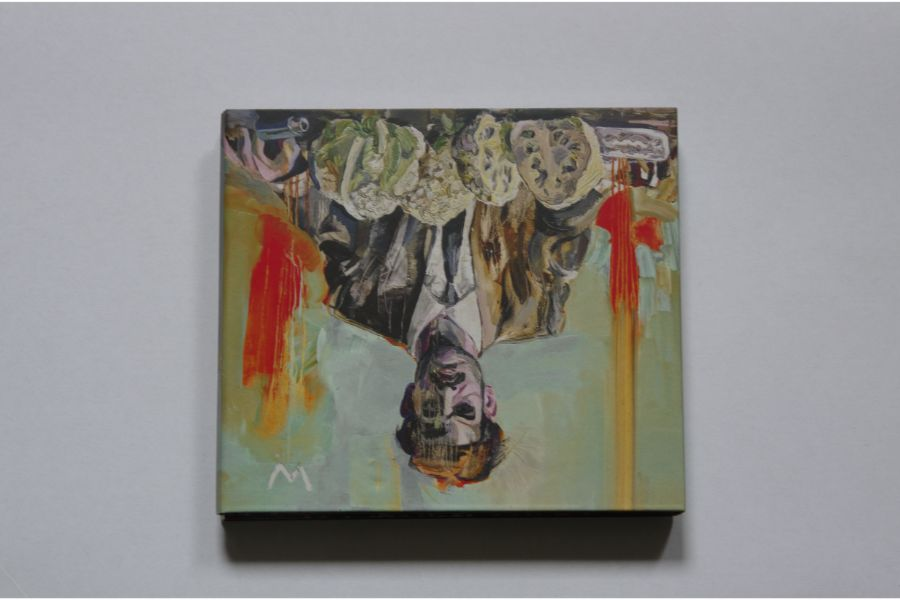album: (216, 105, 692, 519)
